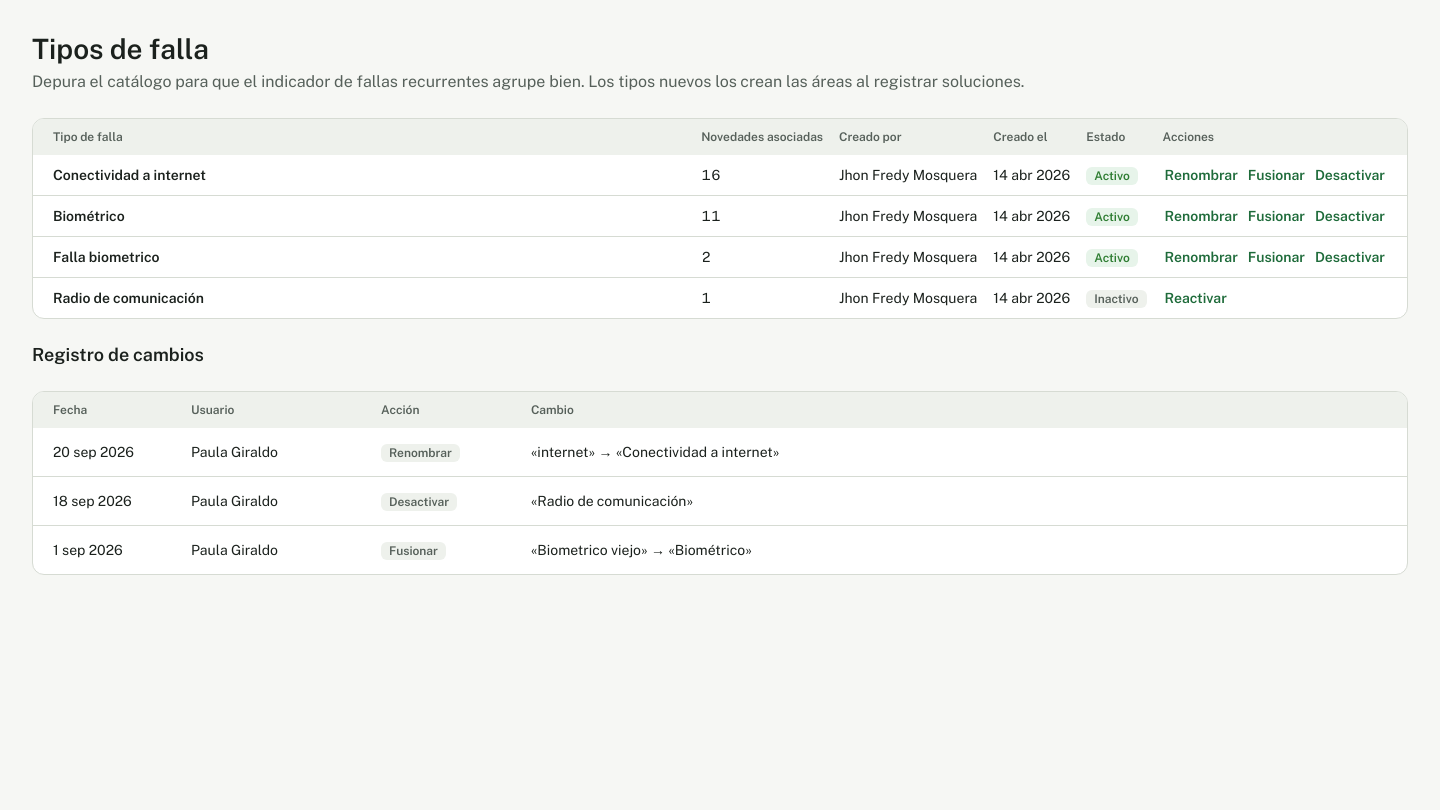
it: Pantalla 31 · Tipos de falla (RF-32 / CU-32) › RF-32 / CU-32 3: renombra un tipo y vuelve a cargar el catálogo
Click the button with aria-label "Renombrar Conectividad a internet": {"x": 1201, "y": 175} [1163,165,1240,185]
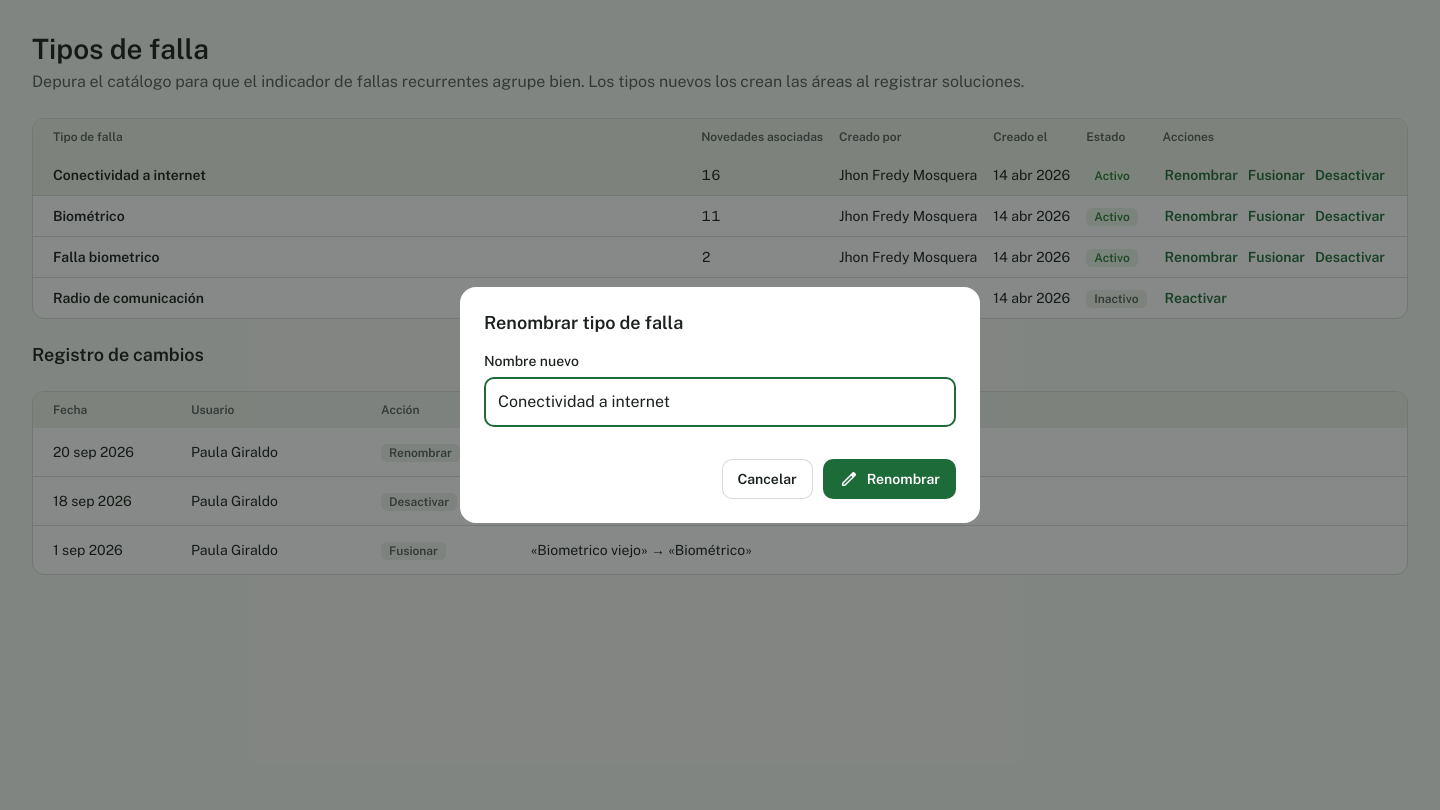
Result: the field labelled "Nombre nuevo" holds "Conectividad a internet"
Replace the text in the field labelled "Nombre nuevo" with "  Internet   satelital ": {"x": 720, "y": 402} [498,390,942,414]
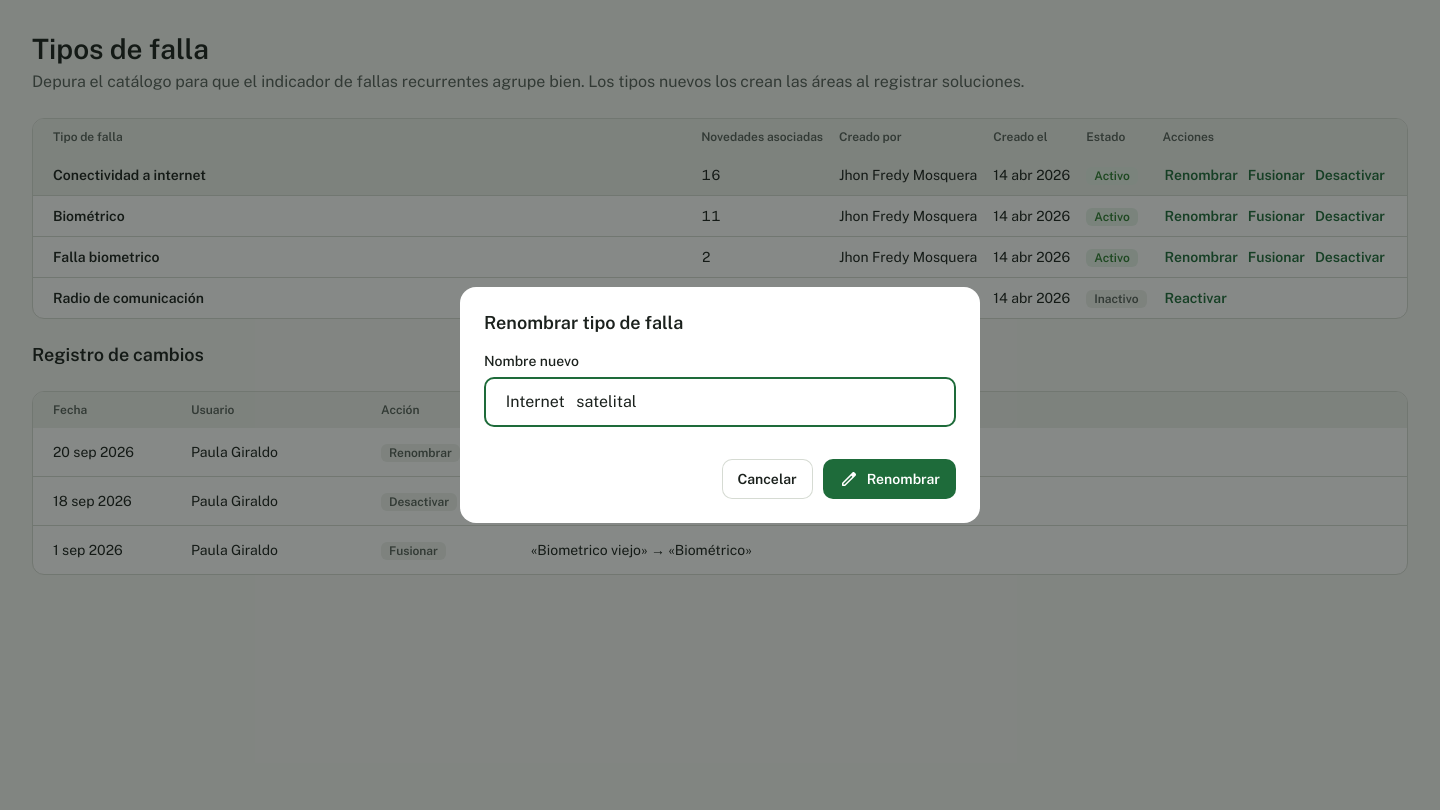
Click the button "Renombrar": {"x": 889, "y": 479} [823,459,956,499]
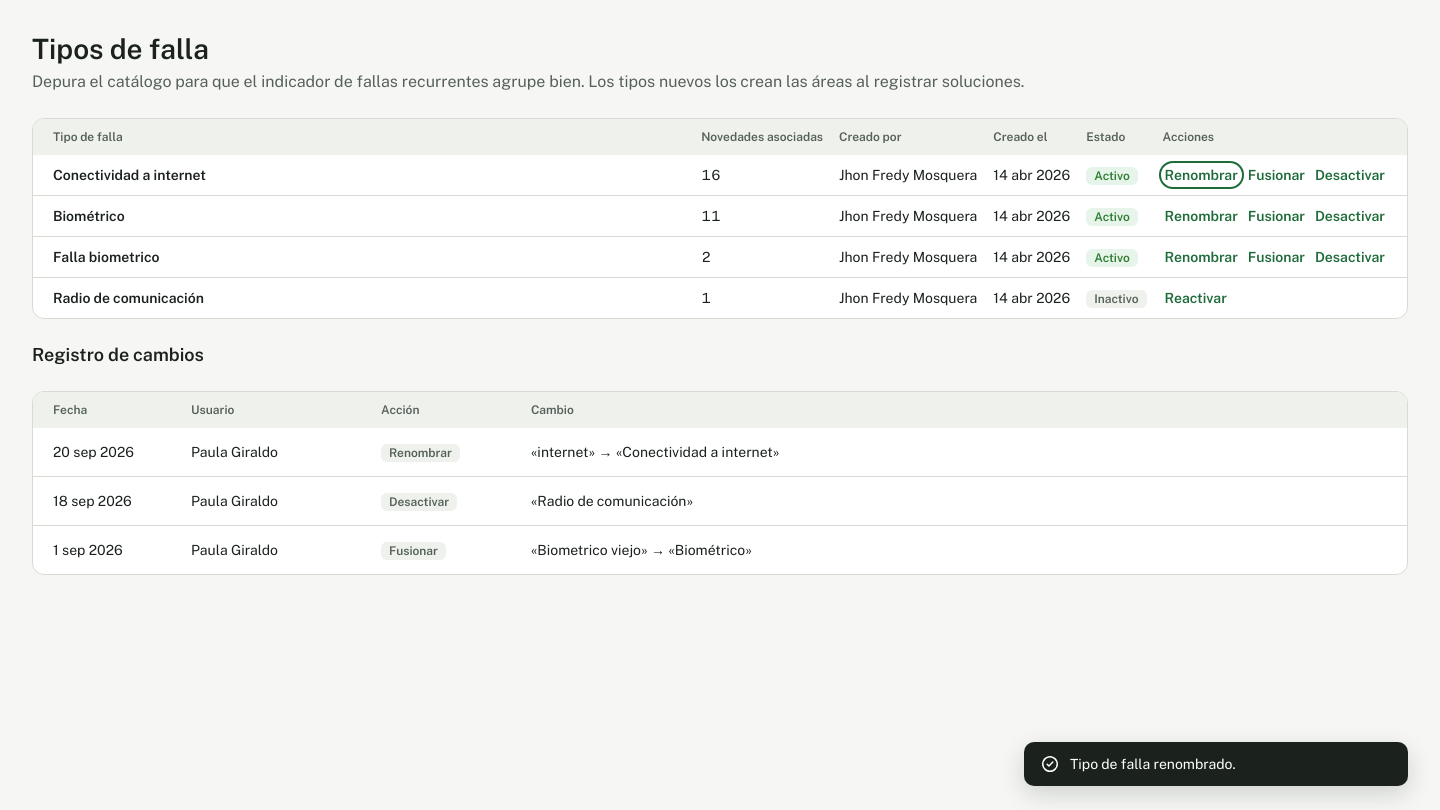
Result: the text "Tipo de falla renombrado." is shown at [1070,756,1236,772]
Result: the dialog is gone
